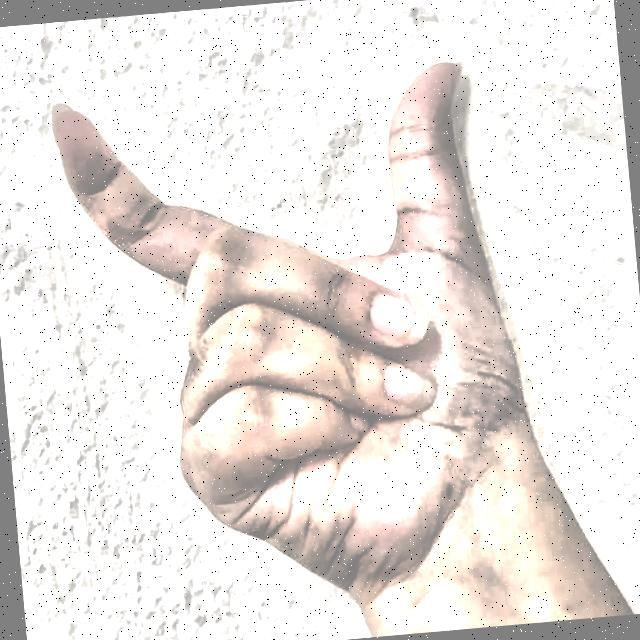ChandraBindu: (26, 6, 592, 636)
